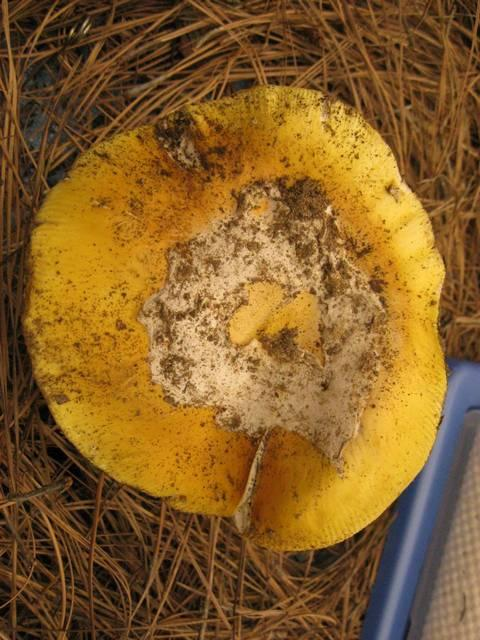edible_mushroom: (20, 83, 449, 553)
